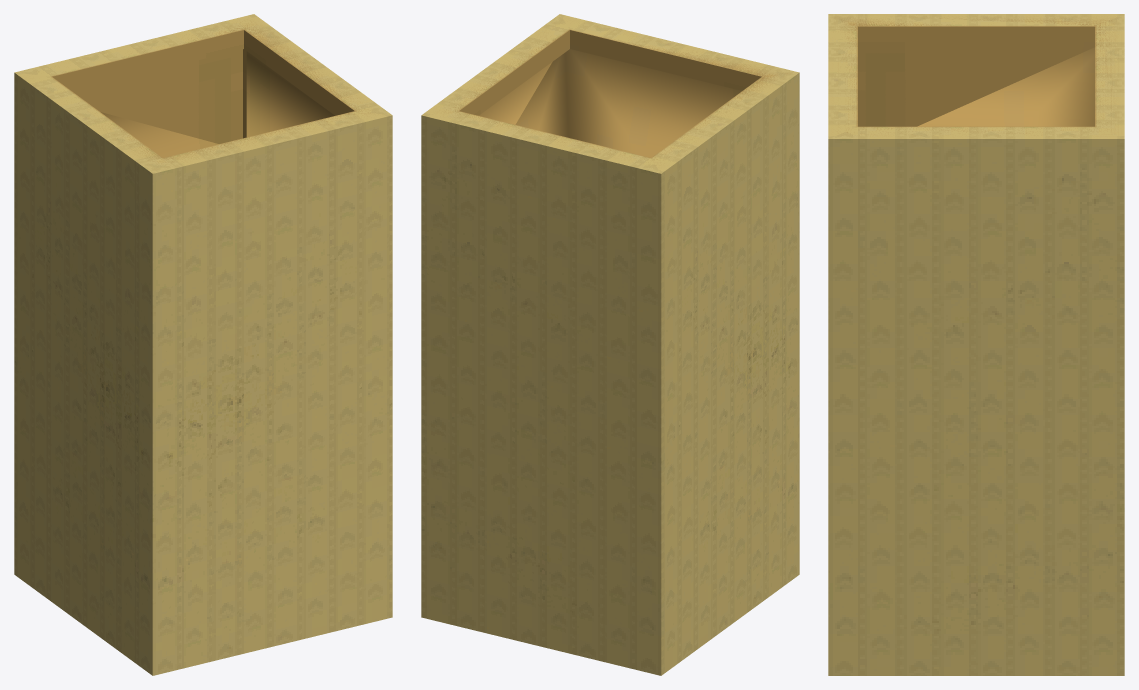
File: item_backrooms_pillar.glb
3 renders of one model, left to right at view 1: azimuth 30°, elevation 25°; view 2: azimuth 150°, elevation 25°; view 3: azimuth 270°, elevation 25°, orthographic. The views are drawn at different scales.
Parts seen in each view (by area): view 1: backrooms_pillar; view 2: backrooms_pillar; view 3: backrooms_pillar.
Part boxes in pixels (bbox=[...]): backrooms_pillar: bbox=[14, 14, 392, 675]; backrooms_pillar: bbox=[421, 14, 799, 675]; backrooms_pillar: bbox=[828, 14, 1124, 675].
Size of the model in its own units: 1 by 2 by 1.
1 material, 1 textured.
